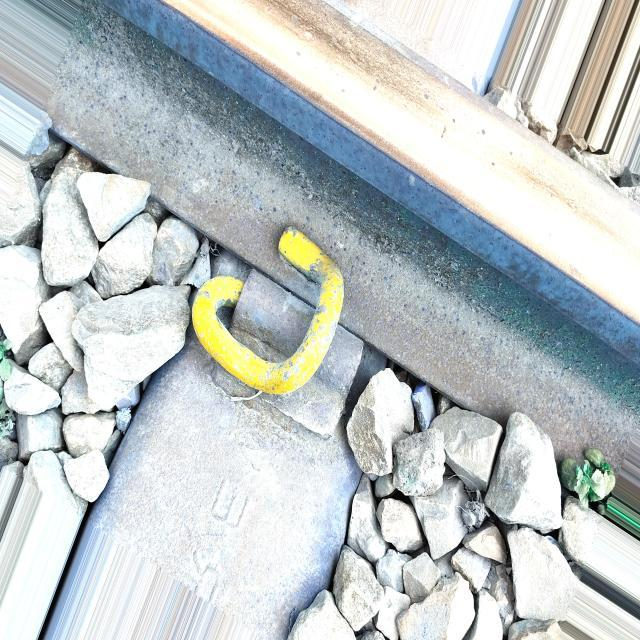Good Fasteners: (192, 228, 363, 435)
